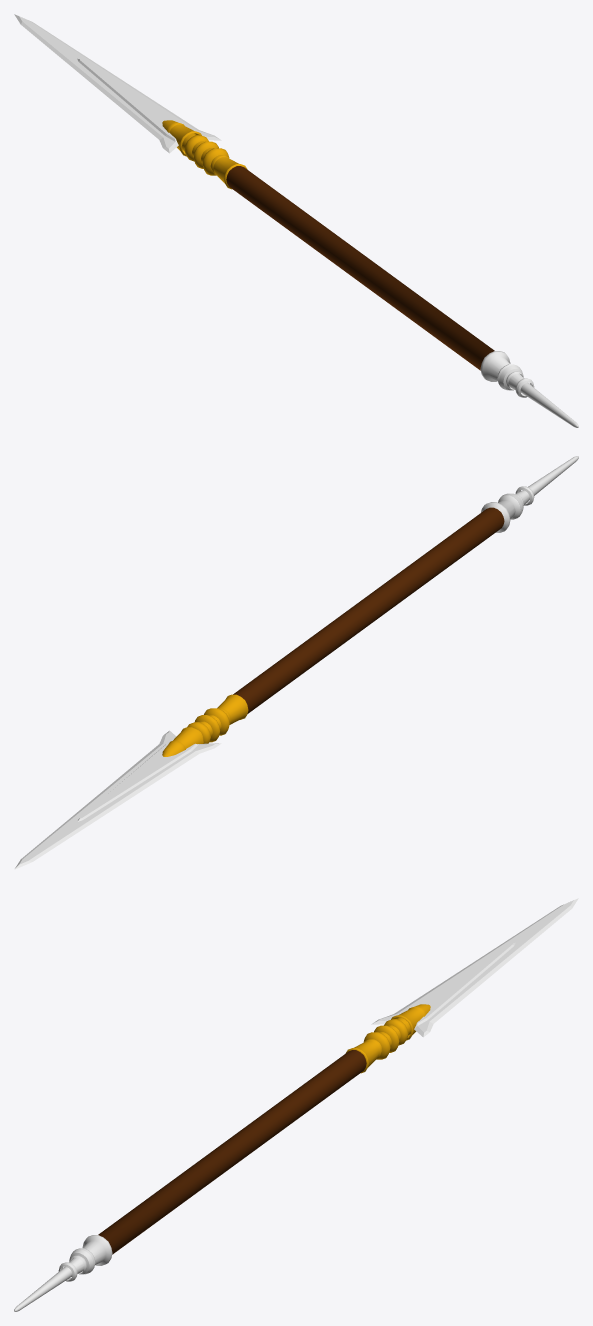
The model's file is maratha_spear.fbx.
3 views of the same model, one above another, from view 1: azimuth 30°, elevation 25°; view 2: azimuth 150°, elevation 25°; view 3: azimuth 330°, elevation 25° (orthographic).
Visible parts, largest first — view 1: Plane.001; view 2: Plane.001; view 3: Plane.001.
Part boxes in pixels (bbox=[...]): Plane.001: bbox=[14, 14, 578, 427]; Plane.001: bbox=[14, 456, 578, 869]; Plane.001: bbox=[14, 898, 578, 1311].
Size of the model in its own units: 54.33 by 29.49 by 1012.
